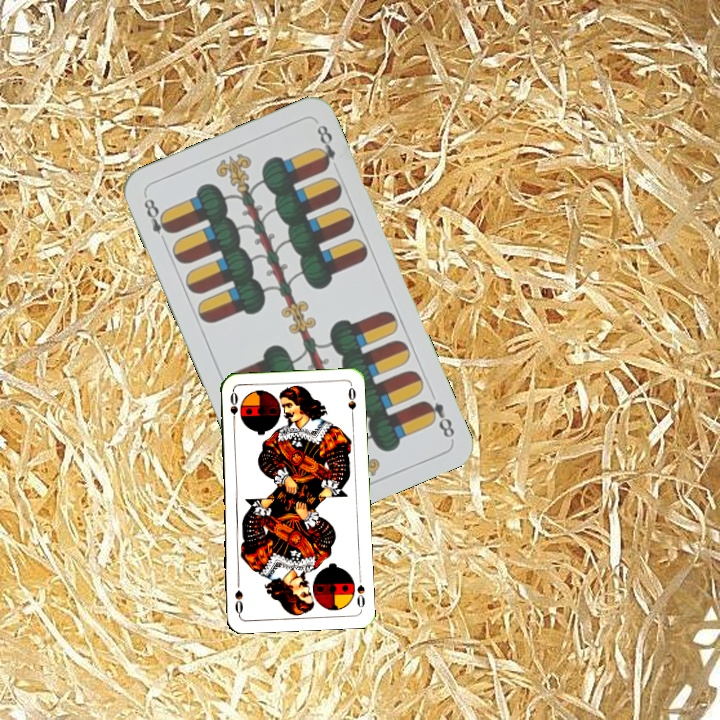E8: (139, 191, 175, 248), (418, 396, 457, 441)
SO: (226, 388, 240, 429), (353, 571, 367, 612)
